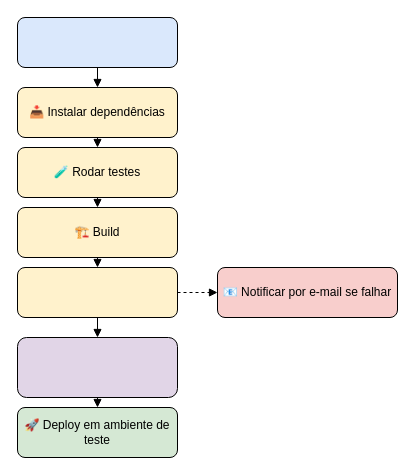
Some shapes in this 415 by 475 pixel diagram are drawn without their labels. The centre of each missing label's shape, as x and y in pixels:
"📤 Criar Release" goes at pixel 97 292.
"📦 Push na main" goes at pixel 97 42.
"🧍 Aguardar aprovação (env: teste)" goes at pixel 97 367.
